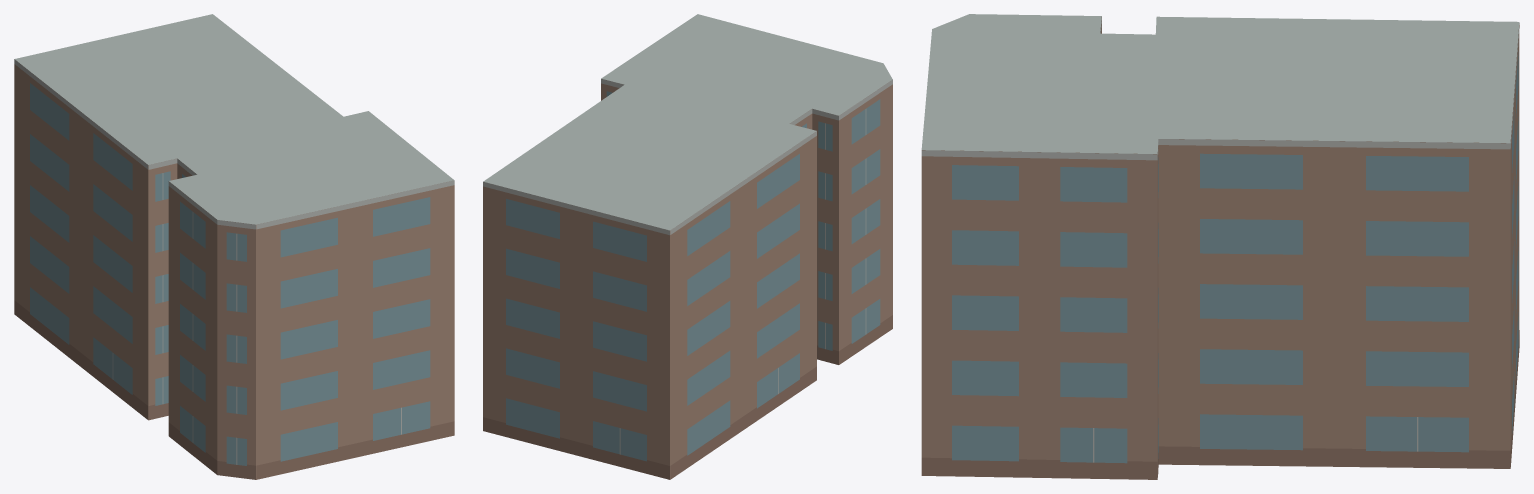
The model's file is survey-upis-32653418.glb.
The picture shows the model from 3 angles, left to right: view 1: azimuth 30°, elevation 25°; view 2: azimuth 150°, elevation 25°; view 3: azimuth 270°, elevation 25°; orthographic projection. The views are drawn at different scales.
Parts seen in each view (by area): view 1: survey-upis-32653418.tmp; view 2: survey-upis-32653418.tmp; view 3: survey-upis-32653418.tmp.
Part boxes in pixels (x1,y1,x2,y2): survey-upis-32653418.tmp: (14, 14, 454, 479); survey-upis-32653418.tmp: (483, 14, 892, 479); survey-upis-32653418.tmp: (921, 14, 1519, 479).
Bounding box in the file's own units: 11.79 × 12.77 × 21.25.
